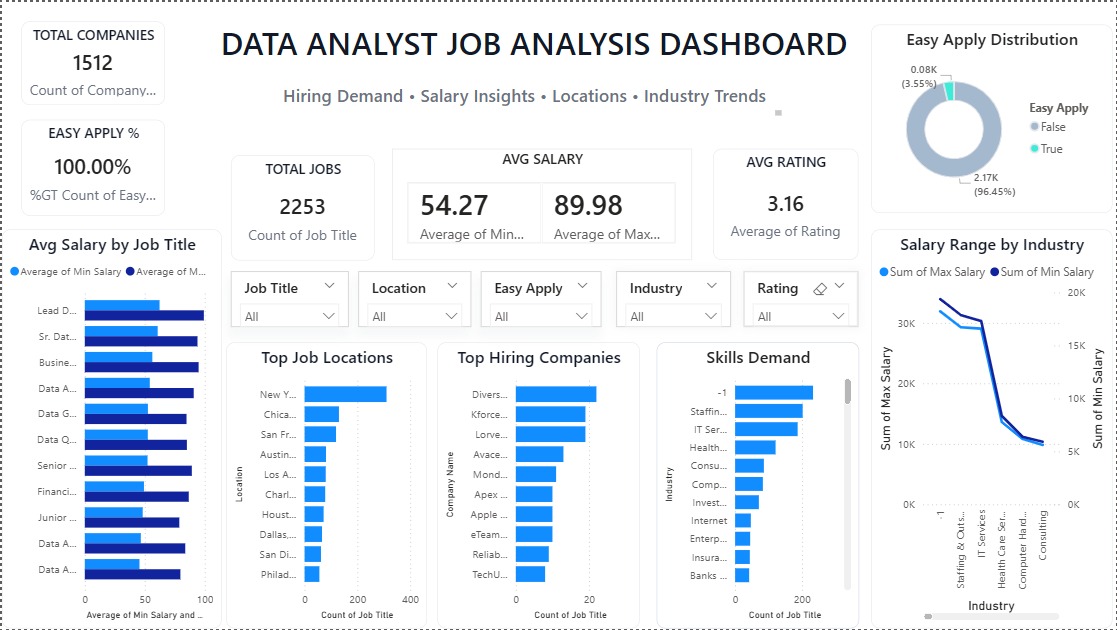

Layout of this report page (visuals, bound fields, positions):
{"tool":"powerbi","page":{"name":"Page 1","canvas":[1280,720],"ordinal":0},"visuals":[{"type":"card","title":"TOTAL COMPANIES","fields":{"Values":["Count(DataAnalyst_Cleaned.Company Name)"]},"box":[23.1,21.3,165.1,95.9],"z":0},{"type":"card","title":"AVG RATING","fields":{"Values":["Avg(DataAnalyst_Cleaned.Rating)"]},"box":[816.8,168.7,166.9,127.8],"z":1000},{"type":"card","title":"TOTAL JOBS","fields":{"Values":["CountNonNull(DataAnalyst_Cleaned.Job Title)"]},"box":[262.8,175.8,165.1,120.7],"z":2000},{"type":"card","title":"EASY APPLY %","fields":{"Values":["Min(DataAnalyst_Cleaned.Easy Apply)"]},"box":[23.1,134.9,165.1,110.1],"z":3000},{"type":"clusteredBarChart","title":"Avg Salary by Job Title","fields":{"Category":["DataAnalyst_Cleaned.Job Title"],"Y":["Avg(DataAnalyst_Cleaned.Min Salary)","Avg(DataAnalyst_Cleaned.Max Salary)"]},"box":[0,261,252.1,458.1],"z":4000},{"type":"clusteredBarChart","title":"Top Hiring Companies","fields":{"Category":["DataAnalyst_Cleaned.Company Name"],"Y":["CountNonNull(DataAnalyst_Cleaned.Job Title)"]},"box":[500.7,390.6,232.6,328.5],"z":5000},{"type":"clusteredBarChart","title":"Top Job Locations","fields":{"Y":["CountNonNull(DataAnalyst_Cleaned.Job Title)"],"Category":["DataAnalyst_Cleaned.Location"]},"box":[257.5,390.6,230.8,328.5],"z":6000},{"type":"donutChart","title":"Easy Apply Distribution","fields":{"Category":["DataAnalyst_Cleaned.Easy Apply"],"Y":["CountNonNull(DataAnalyst_Cleaned.Job Title)"]},"box":[997.9,26.6,277,216.6],"z":7000},{"type":"lineChart","title":"Salary Range by Industry","fields":{"Category":["DataAnalyst_Cleaned.Industry"],"Y":["Sum(DataAnalyst_Cleaned.Max Salary)"],"Y2":["Sum(DataAnalyst_Cleaned.Min Salary)"]},"box":[997.9,261,277,458.1],"z":8000},{"type":"clusteredBarChart","title":"Skills Demand","fields":{"Y":["Count(DataAnalyst_Cleaned.Job Title)"],"Category":["DataAnalyst_Cleaned.Industry"]},"box":[751.1,390.6,232.6,328.5],"z":9000},{"type":"textbox","title":"Hiring Demand • Salary Insights • Locations • Industry Trends","box":[300.1,92.3,600.2,42.6],"z":10000},{"type":"textbox","title":"DATA ANALYST JOB ANALYSIS DASHBOARD","box":[246.8,21.3,736.9,55],"z":11000},{"type":"slicer","fields":{"Values":["DataAnalyst_Cleaned.Job Title"]},"box":[262.8,309,134.9,63.9],"z":12000},{"type":"slicer","fields":{"Values":["DataAnalyst_Cleaned.Location"]},"box":[410.2,309,129.6,63.9],"z":13000},{"type":"slicer","fields":{"Values":["DataAnalyst_Cleaned.Industry"]},"box":[704.9,309,131.4,63.9],"z":14000},{"type":"slicer","fields":{"Values":["DataAnalyst_Cleaned.Easy Apply"]},"box":[550.5,309,138.5,63.9],"z":15000},{"type":"cardVisual","title":"AVG SALARY","fields":{"Data":["Avg(DataAnalyst_Cleaned.Min Salary)","Avg(DataAnalyst_Cleaned.Max Salary)"]},"box":[447.5,168.7,344.5,127.8],"z":16000},{"type":"slicer","fields":{"Values":["DataAnalyst_Cleaned.Rating"]},"box":[852.3,309,131.4,63.9],"z":16001}]}

Visuals, with their boxes in screenshot pixels (x1, y1, x2, y2), scaled from the page's 1280x720 canvas onto the 1117x630 screenshot:
"TOTAL COMPANIES" card: crop(20, 19, 164, 103)
"AVG RATING" card: crop(713, 148, 858, 259)
"TOTAL JOBS" card: crop(229, 154, 373, 259)
"EASY APPLY %" card: crop(20, 118, 164, 214)
"Avg Salary by Job Title" clusteredBarChart: crop(0, 228, 220, 629)
"Top Hiring Companies" clusteredBarChart: crop(437, 342, 640, 629)
"Top Job Locations" clusteredBarChart: crop(225, 342, 426, 629)
"Easy Apply Distribution" donutChart: crop(871, 23, 1113, 213)
"Salary Range by Industry" lineChart: crop(871, 228, 1113, 629)
"Skills Demand" clusteredBarChart: crop(655, 342, 858, 629)
"Hiring Demand • Salary Insights • Locations • Industry Trends" textbox: crop(262, 81, 786, 118)
"DATA ANALYST JOB ANALYSIS DASHBOARD" textbox: crop(215, 19, 858, 67)
slicer - DataAnalyst_Cleaned.Job Title: crop(229, 270, 347, 326)
slicer - DataAnalyst_Cleaned.Location: crop(358, 270, 471, 326)
slicer - DataAnalyst_Cleaned.Industry: crop(615, 270, 730, 326)
slicer - DataAnalyst_Cleaned.Easy Apply: crop(480, 270, 601, 326)
"AVG SALARY" cardVisual: crop(391, 148, 691, 259)
slicer - DataAnalyst_Cleaned.Rating: crop(744, 270, 858, 326)
